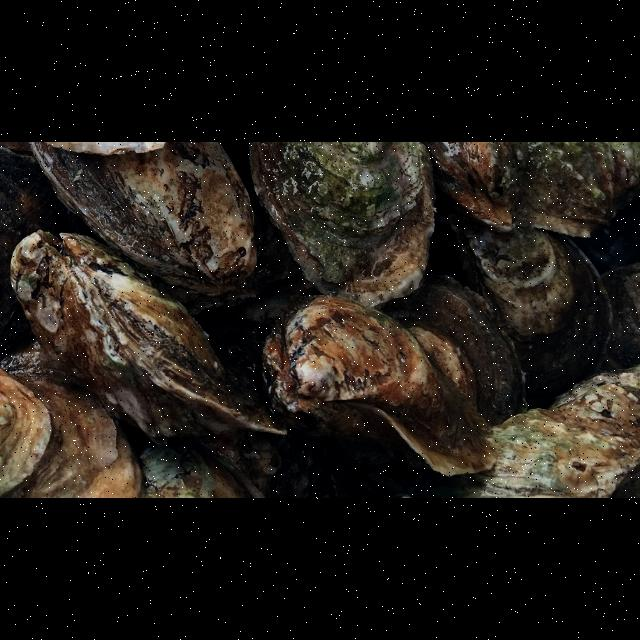Oyster-Closed: (10, 231, 288, 442), (278, 295, 495, 476), (30, 142, 257, 296), (440, 212, 611, 408), (249, 142, 435, 309), (435, 364, 640, 498), (262, 325, 432, 470), (374, 273, 525, 427), (424, 142, 640, 237), (5, 375, 141, 498), (0, 147, 80, 354), (137, 439, 263, 498), (0, 369, 52, 496), (184, 433, 279, 498), (601, 261, 640, 372), (44, 142, 166, 155)
